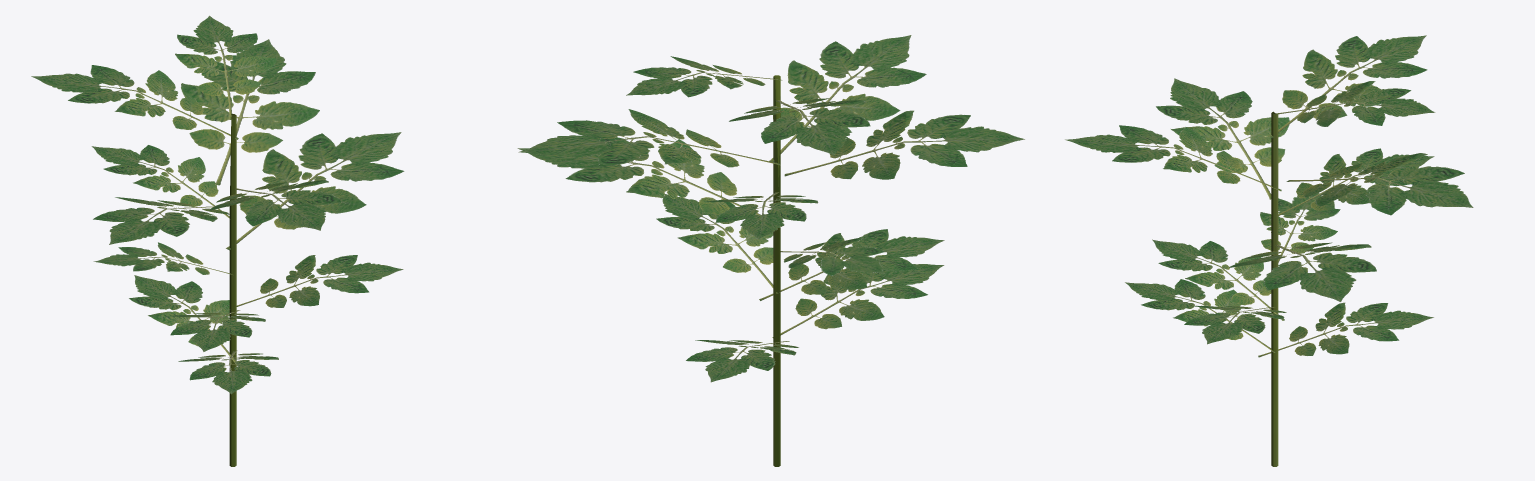
The model's file is Plant_stage_04.fbx.
3 views of the same model, side by side, from view 1: azimuth 30°, elevation 25°; view 2: azimuth 150°, elevation 25°; view 3: azimuth 270°, elevation 25° (orthographic). The views are drawn at different scales.
Visible parts, largest first — view 1: Plant_Stage_04; view 2: Plant_Stage_04; view 3: Plant_Stage_04.
Boxes of the visible parts, left/top/right/bottom form: Plant_Stage_04: left=31, top=15, right=404, bottom=466; Plant_Stage_04: left=517, top=35, right=1024, bottom=466; Plant_Stage_04: left=1065, top=35, right=1473, bottom=466.
Bounding box in the file's own units: 40.95 × 43.8 × 37.45.
